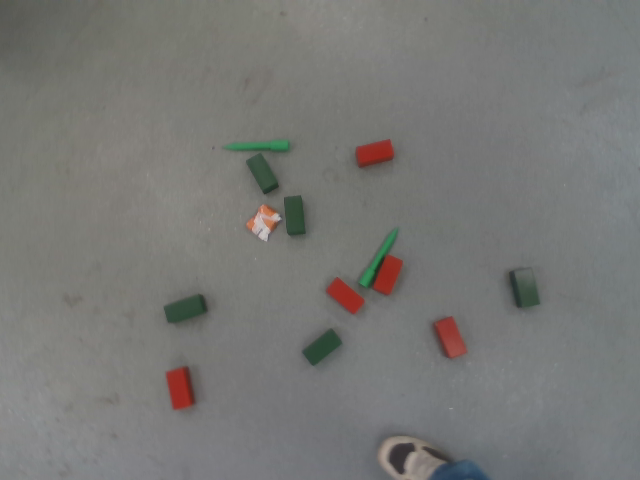Probe: (354, 224, 402, 290), (219, 138, 291, 154)
